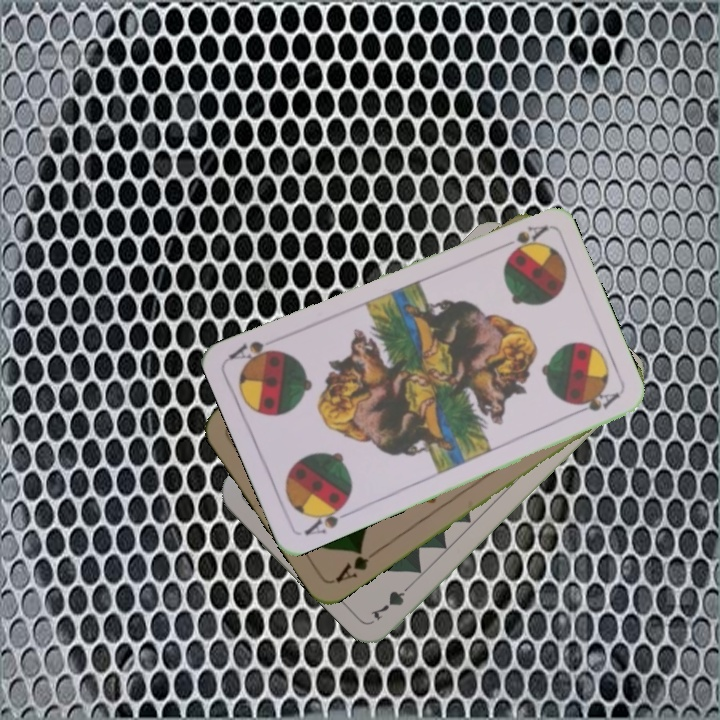G7: (366, 577, 417, 624)
GA: (331, 545, 381, 586)
SA: (300, 497, 355, 538), (493, 221, 550, 255)
